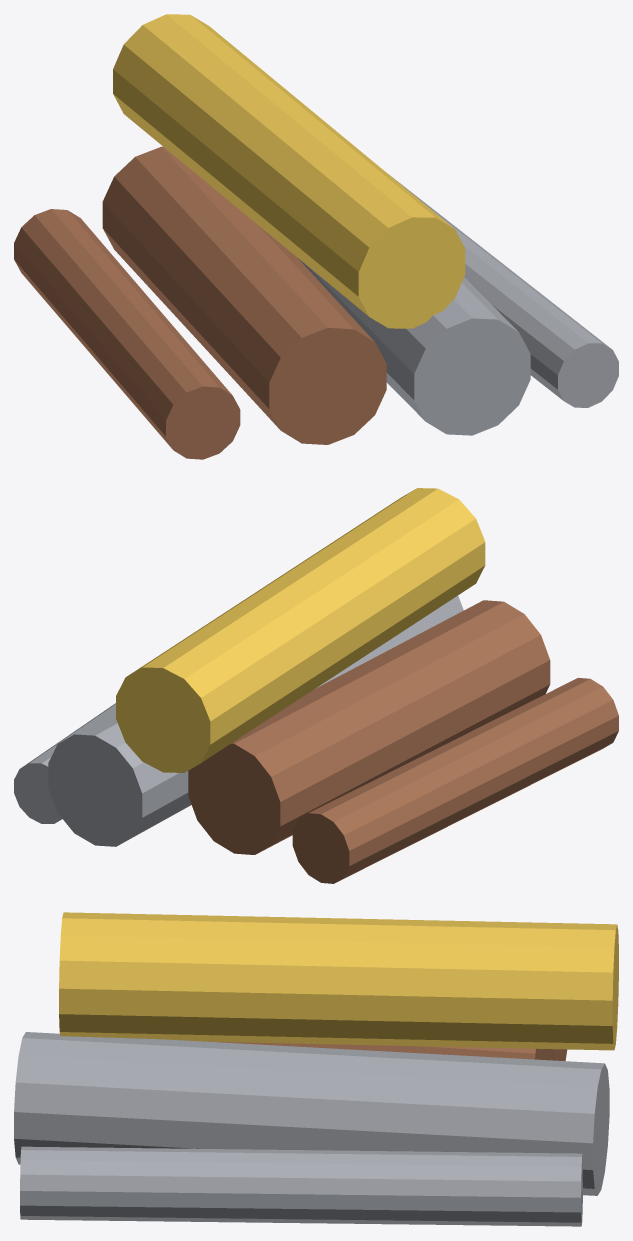
Rendered from env_scrap_pipes.glb.
The picture shows the model from 3 angles, top to bottom: view 1: azimuth 30°, elevation 25°; view 2: azimuth 150°, elevation 25°; view 3: azimuth 270°, elevation 25°; orthographic projection. The views are drawn at different scales.
Visible parts, largest first — view 1: env_scrap_pipes; view 2: env_scrap_pipes; view 3: env_scrap_pipes.
Boxes of the visible parts, x1,y1,x2,y2 form: env_scrap_pipes: (14,14,618,459); env_scrap_pipes: (14,488,618,883); env_scrap_pipes: (14,912,618,1226).
Size of the model in its own units: 3 by 1.46 by 3.64.
